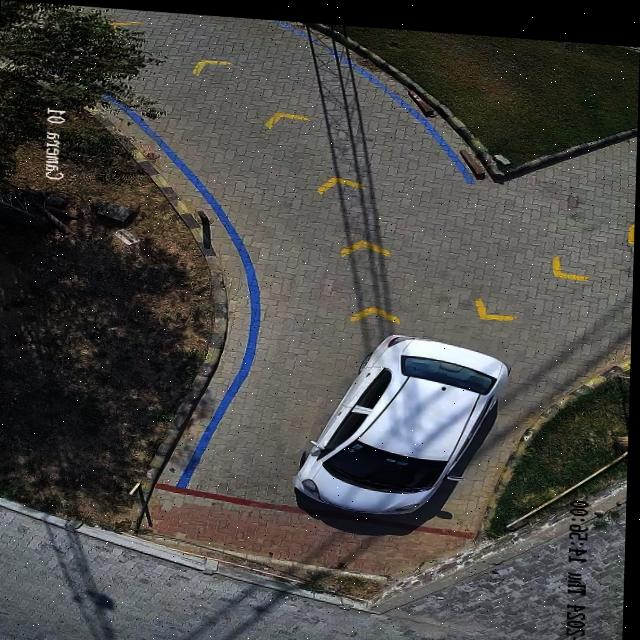car: (293, 328, 508, 510)
